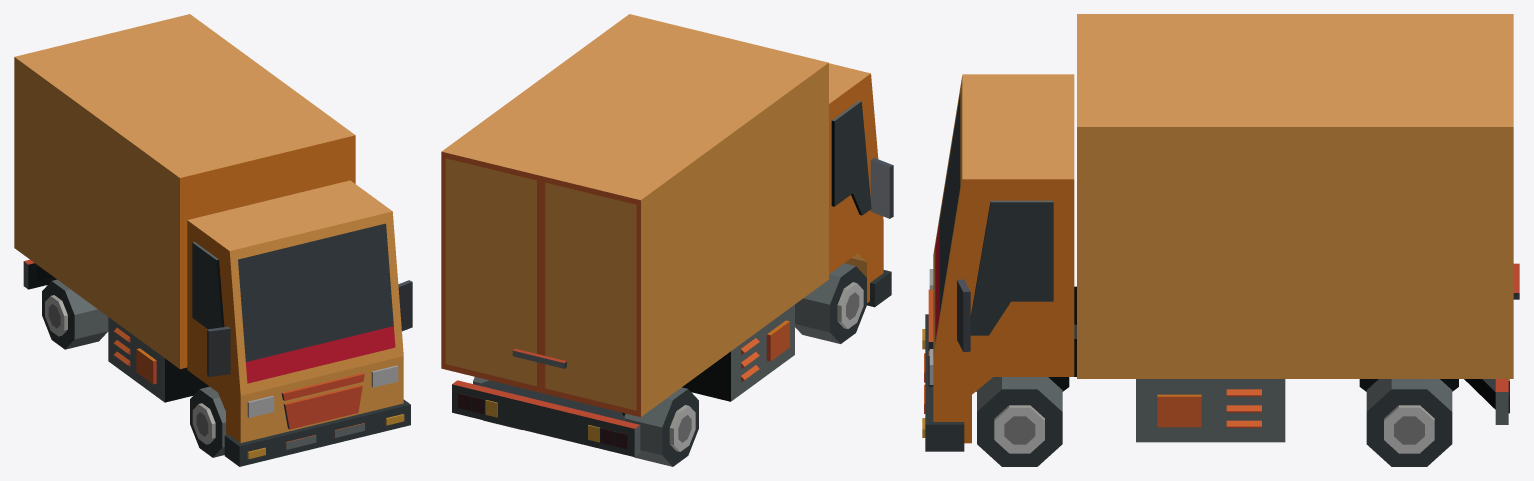
Rendered from TB_CITY_Car_Truck_C.FBX.
The picture shows the model from 3 angles, left to right: view 1: azimuth 30°, elevation 25°; view 2: azimuth 150°, elevation 25°; view 3: azimuth 270°, elevation 25°; orthographic projection. The views are drawn at different scales.
Visible parts, largest first — view 1: TB_CITY_Car_Truck_C, TB_Car_Truck_Wheel010, TB_Car_Truck_Wheel012; view 2: TB_CITY_Car_Truck_C, TB_Car_Truck_Wheel012, TB_Car_Truck_Wheel010; view 3: TB_CITY_Car_Truck_C, TB_Car_Truck_Wheel011, TB_Car_Truck_Wheel009.
Boxes of the visible parts, bbox=[...] form: TB_CITY_Car_Truck_C: bbox=[14, 14, 412, 466]; TB_Car_Truck_Wheel010: bbox=[42, 279, 108, 349]; TB_Car_Truck_Wheel012: bbox=[190, 386, 225, 457]; TB_CITY_Car_Truck_C: bbox=[441, 14, 893, 457]; TB_Car_Truck_Wheel012: bbox=[795, 263, 866, 343]; TB_Car_Truck_Wheel010: bbox=[624, 387, 698, 466]; TB_CITY_Car_Truck_C: bbox=[922, 14, 1519, 451]; TB_Car_Truck_Wheel011: bbox=[977, 377, 1062, 466]; TB_Car_Truck_Wheel009: bbox=[1366, 379, 1452, 466].
Bounding box in the file's own units: 4.17 × 5.09 × 8.03.
